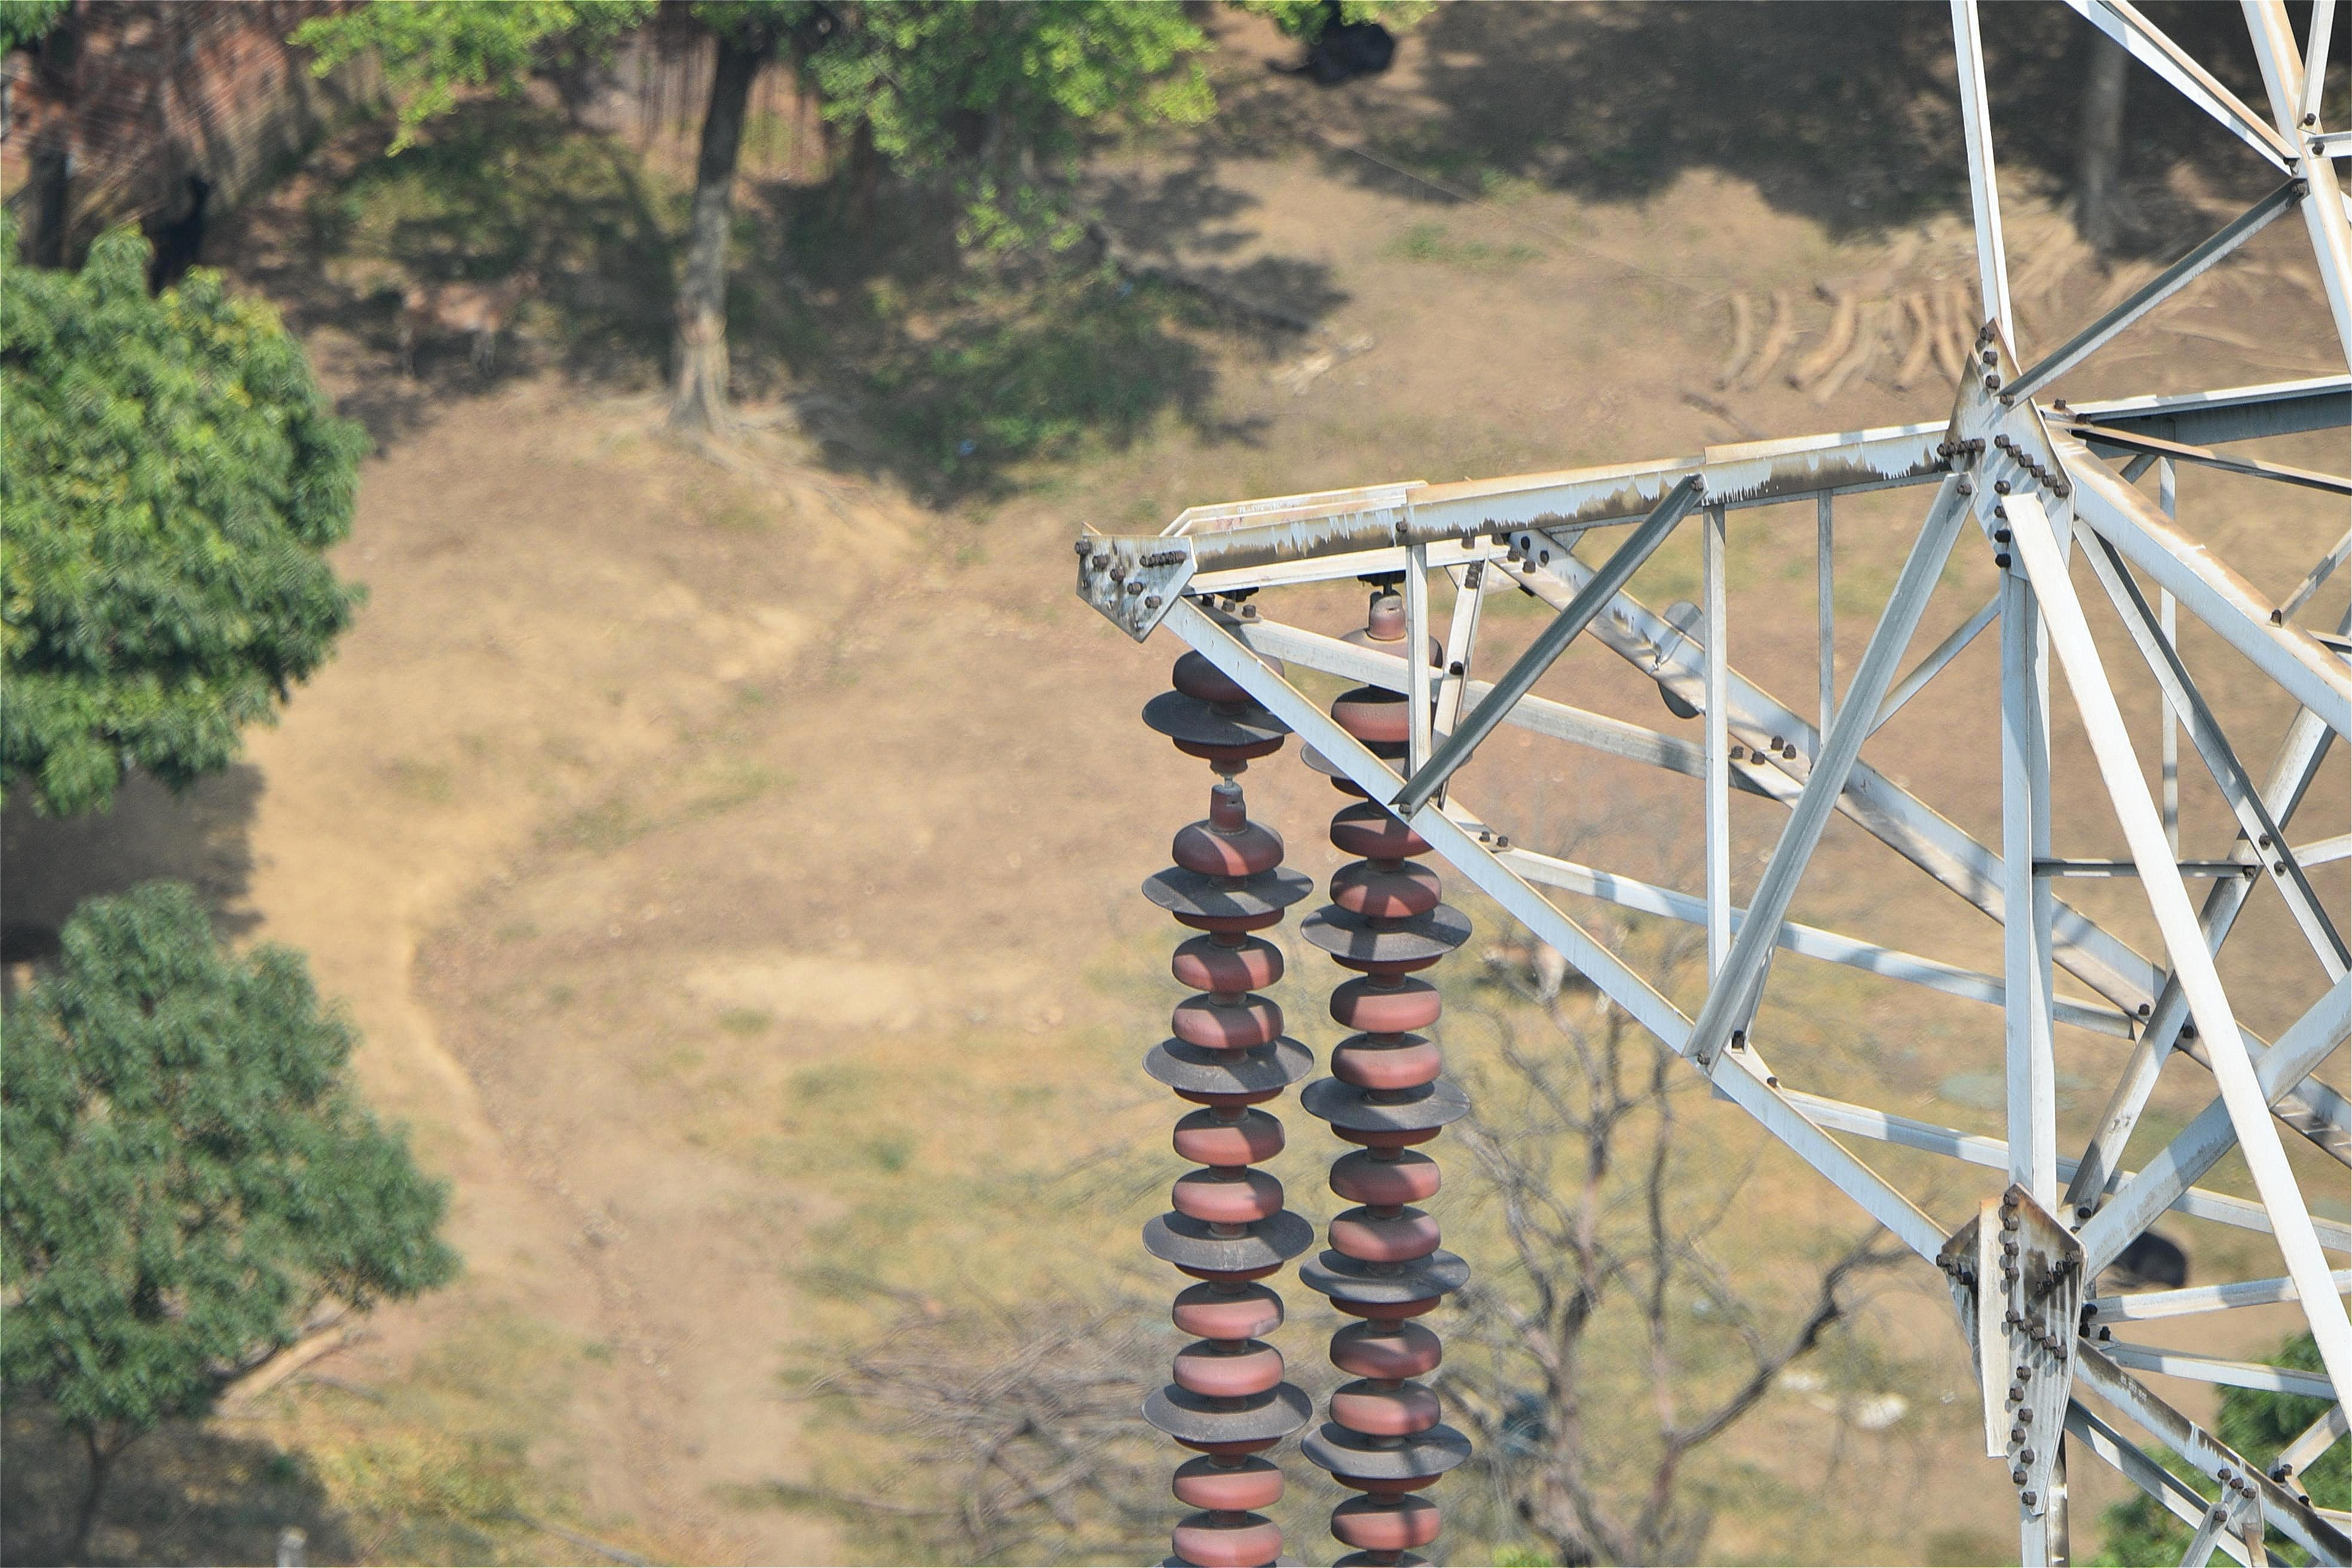insultor1: (1120, 632, 1487, 1568)
